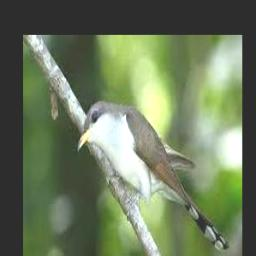Cuckoo: (77, 100, 229, 252)
